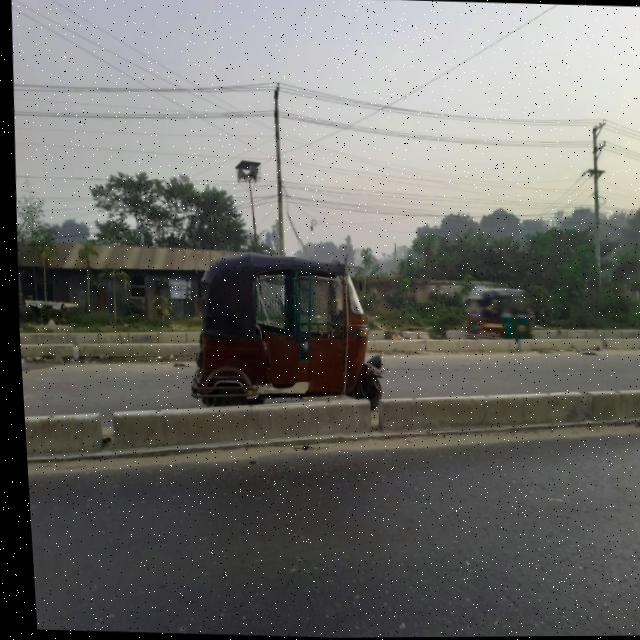cng: (183, 206, 406, 473)
